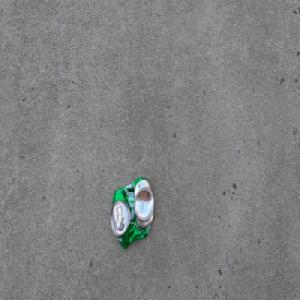SodaCan: (109, 175, 154, 250)
